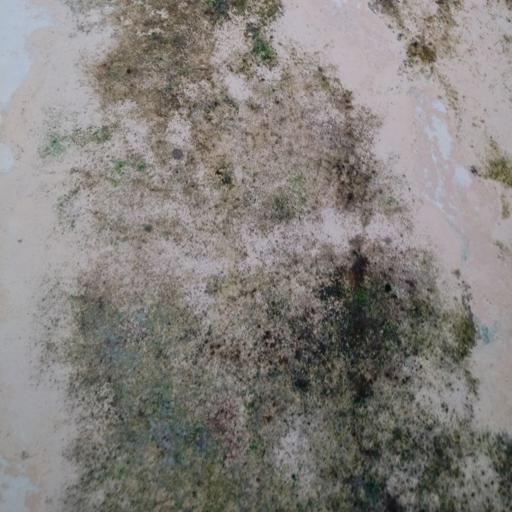algae: (69, 9, 512, 512)
